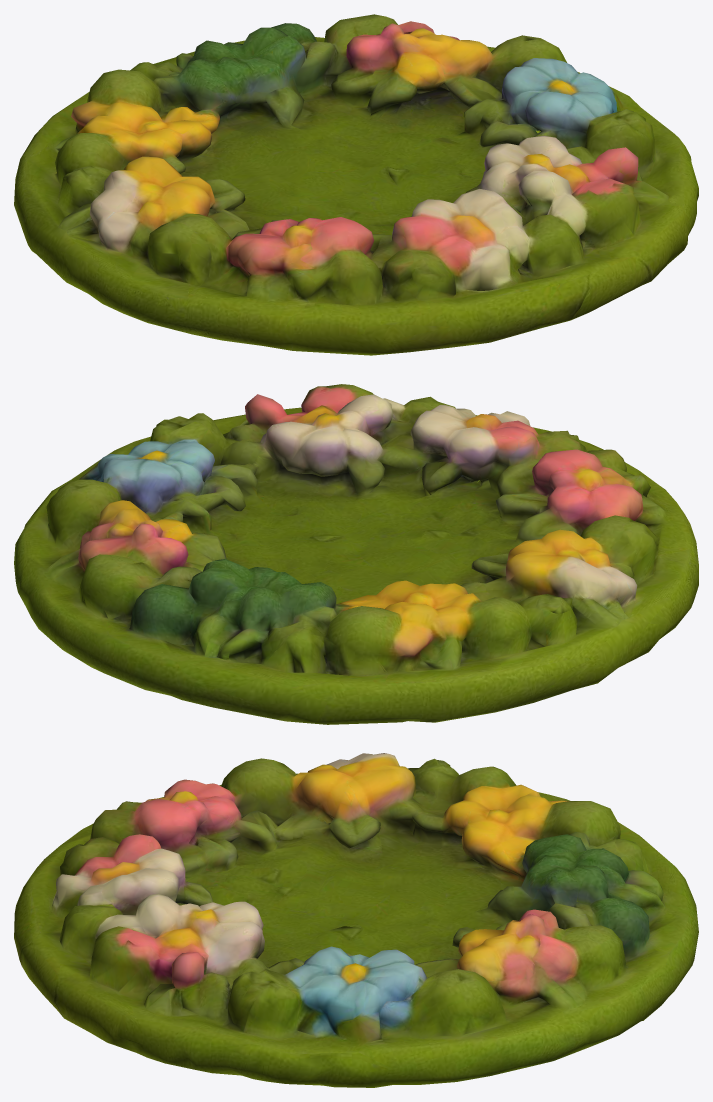
The model's file is cluster-flowerbed-oval.glb.
3 views of the same model, one above another, from view 1: azimuth 30°, elevation 25°; view 2: azimuth 150°, elevation 25°; view 3: azimuth 270°, elevation 25° (orthographic).
Visible parts, largest first — view 1: Mesh_0; view 2: Mesh_0; view 3: Mesh_0.
Part boxes in pixels (x1,y1,x2,y2): Mesh_0: (14,14,698,355); Mesh_0: (14,384,698,724); Mesh_0: (14,753,698,1087).
Bounding box in the file's own units: 2 × 0.33 × 2.
Materials: 1 (1 with a texture image).
